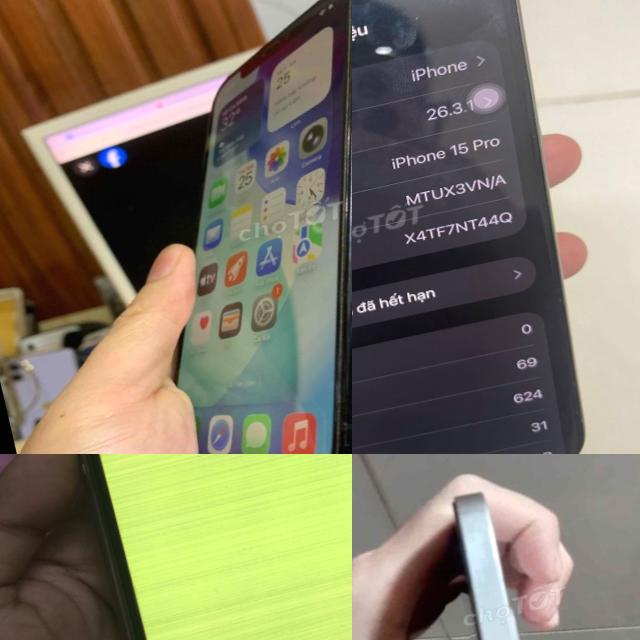gen_12_13: (51, 0, 352, 454), (22, 454, 352, 640), (425, 463, 583, 640)
gen_15: (352, 0, 625, 454)
scratch: (247, 82, 352, 452)
screen_defect: (159, 505, 352, 617), (124, 454, 352, 495), (195, 601, 352, 640)
